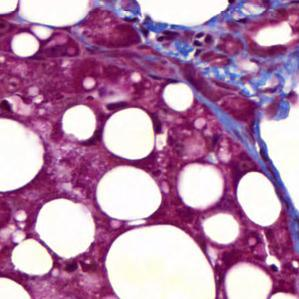steatosis: (104, 225, 218, 299), (103, 106, 156, 163), (236, 169, 282, 229), (0, 275, 31, 299)
